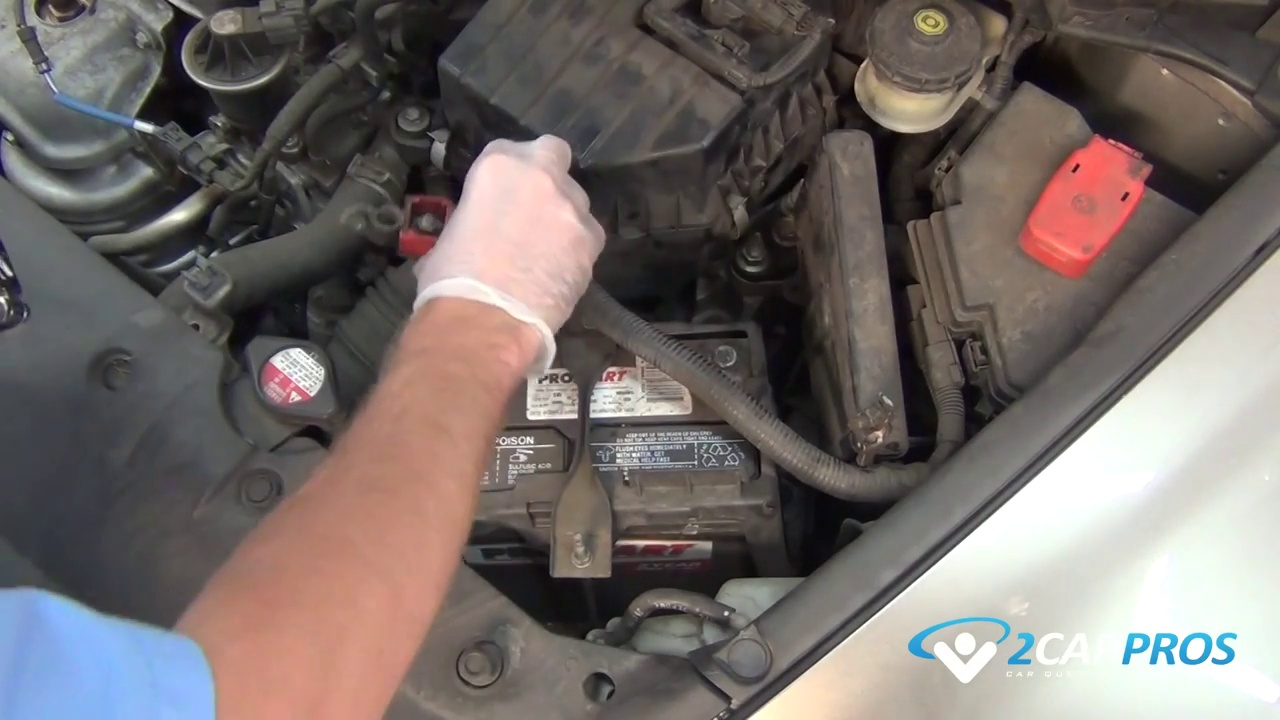battery: (400, 303, 775, 538)
neg_disconnected: (677, 327, 765, 381)
pos_touched: (390, 171, 554, 361)
